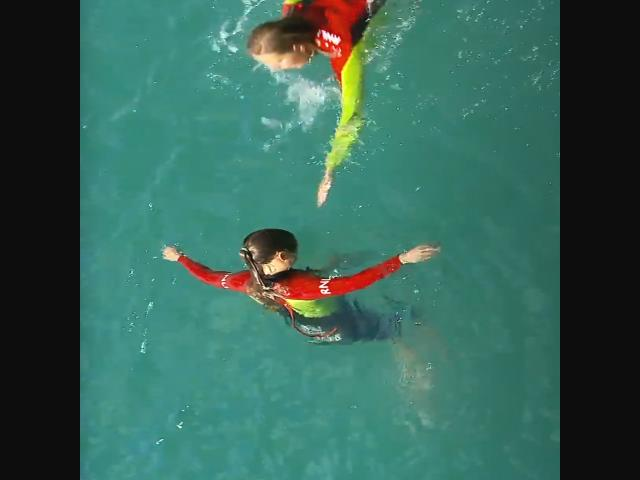drowning: (150, 229, 438, 356)
swimming: (248, 0, 433, 208)
